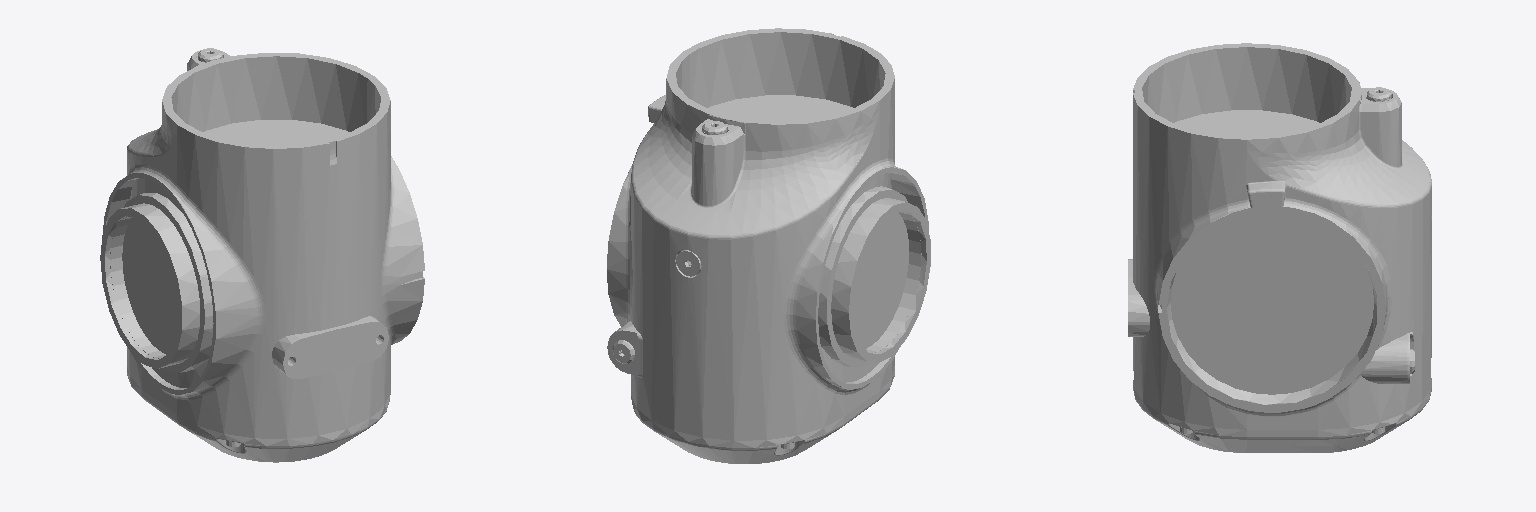
Rendered from RobotLink3_Model.obj.
3 renders of one model, left to right at view 1: azimuth 30°, elevation 25°; view 2: azimuth 150°, elevation 25°; view 3: azimuth 270°, elevation 25°, orthographic.
Bounding box in the file's own units: 108 × 144 × 120.